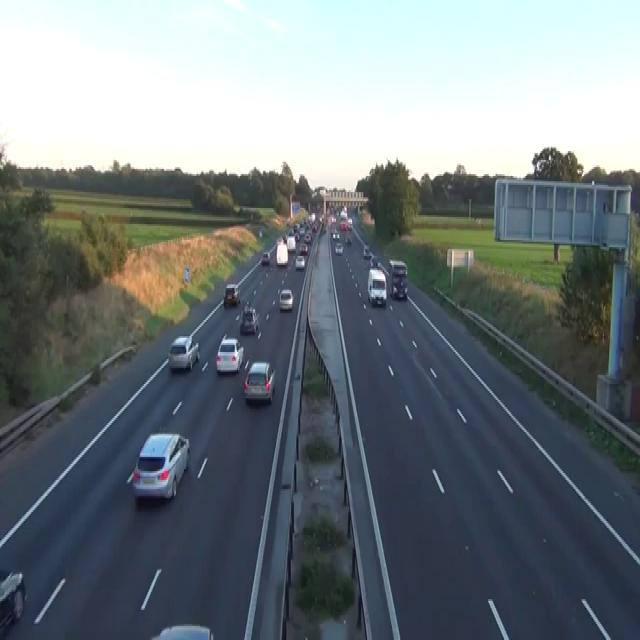Car: (131, 432, 190, 501), (0, 567, 25, 633), (243, 361, 275, 403), (167, 334, 199, 372), (330, 206, 353, 256), (216, 336, 244, 373), (150, 624, 214, 638), (239, 304, 258, 334), (223, 282, 240, 308), (389, 258, 407, 276), (279, 288, 293, 311), (295, 254, 305, 268), (261, 251, 270, 265), (334, 242, 343, 254), (299, 242, 308, 254), (369, 254, 377, 267), (363, 244, 370, 258), (332, 229, 340, 240), (304, 231, 312, 242), (344, 235, 352, 245), (339, 219, 347, 229), (346, 217, 352, 229), (276, 237, 284, 246), (475, 215, 482, 224), (294, 231, 299, 240), (322, 222, 326, 233), (282, 233, 286, 243), (331, 215, 336, 222), (258, 228, 262, 236)
Truck: (367, 266, 386, 306), (388, 258, 407, 298), (275, 238, 288, 265)
